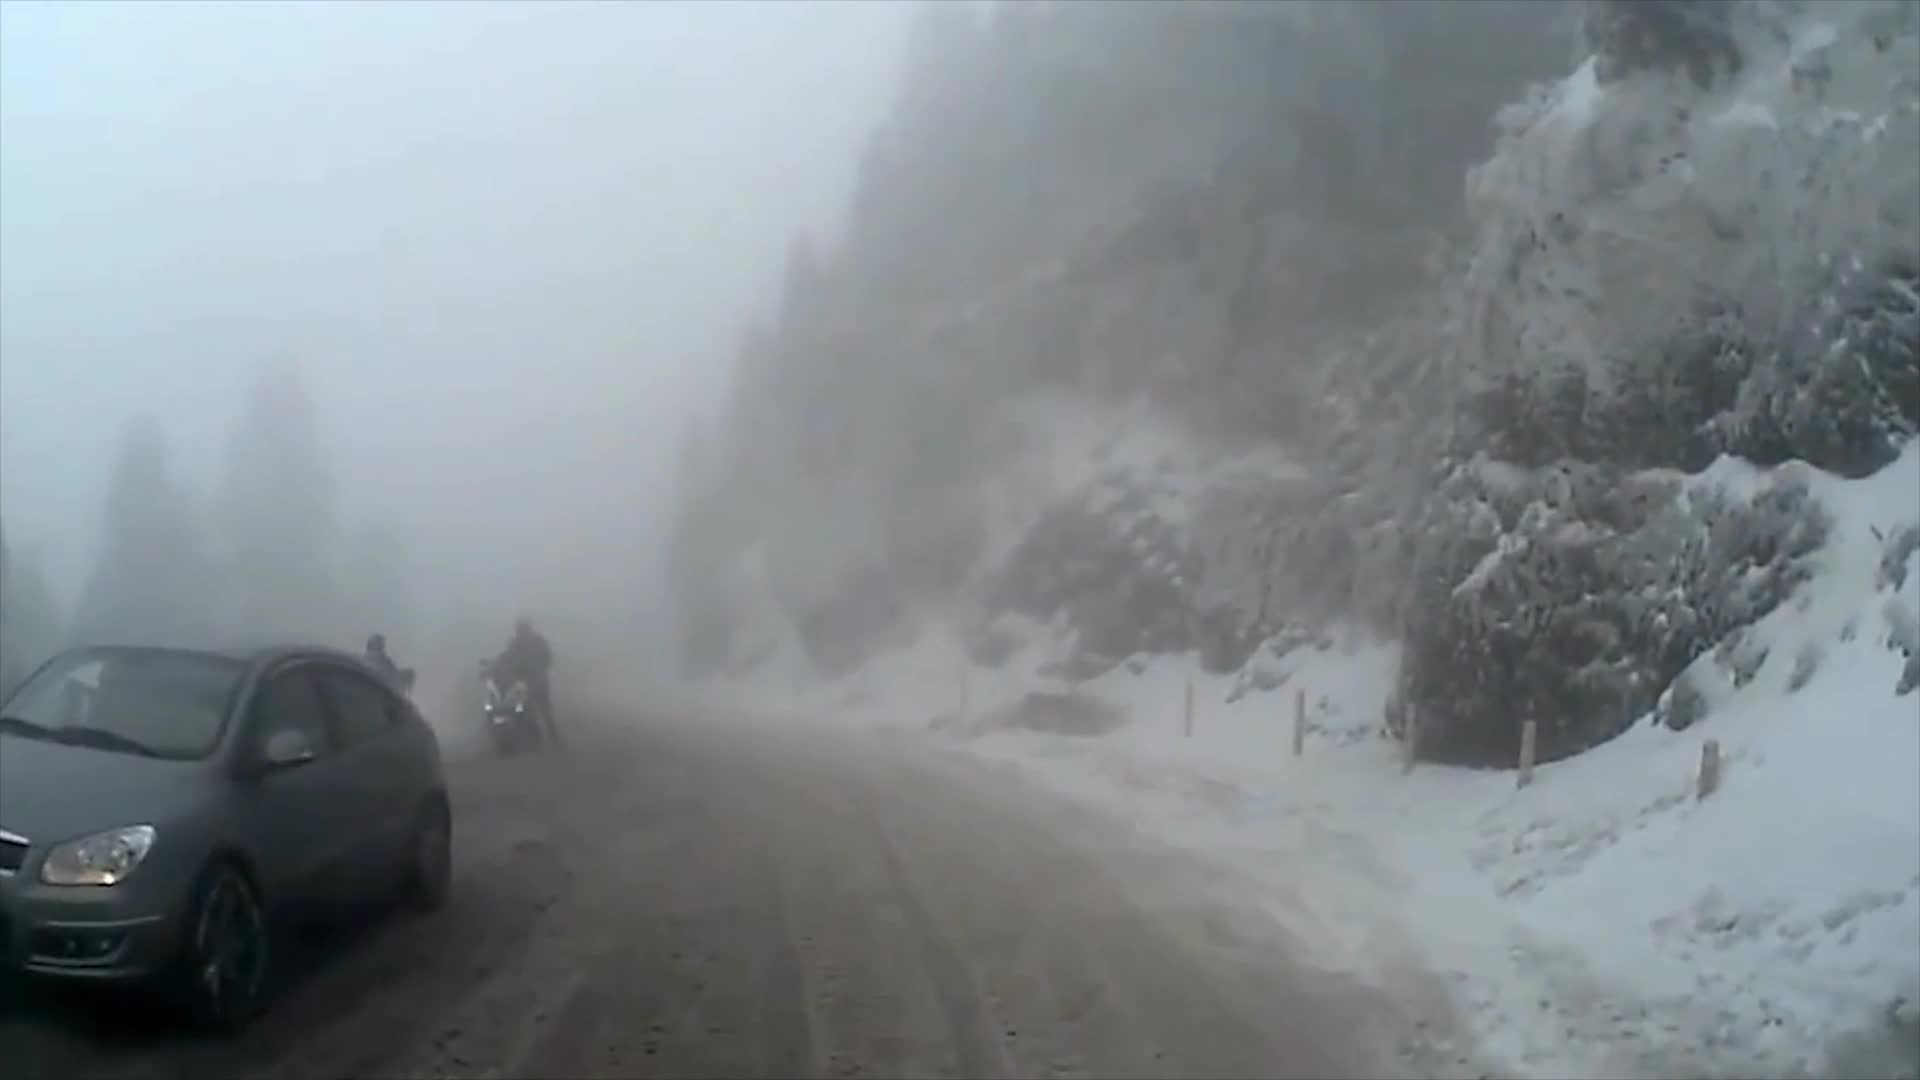pedestrian: (348, 632, 417, 805), (487, 608, 560, 739)
vehicle: (0, 633, 453, 1030)
